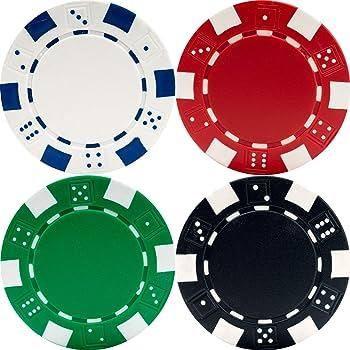chip-black: (176, 176, 350, 350)
chip-green: (1, 176, 174, 350)
chip-red: (176, 1, 350, 175)
chip-white: (2, 2, 174, 173)
